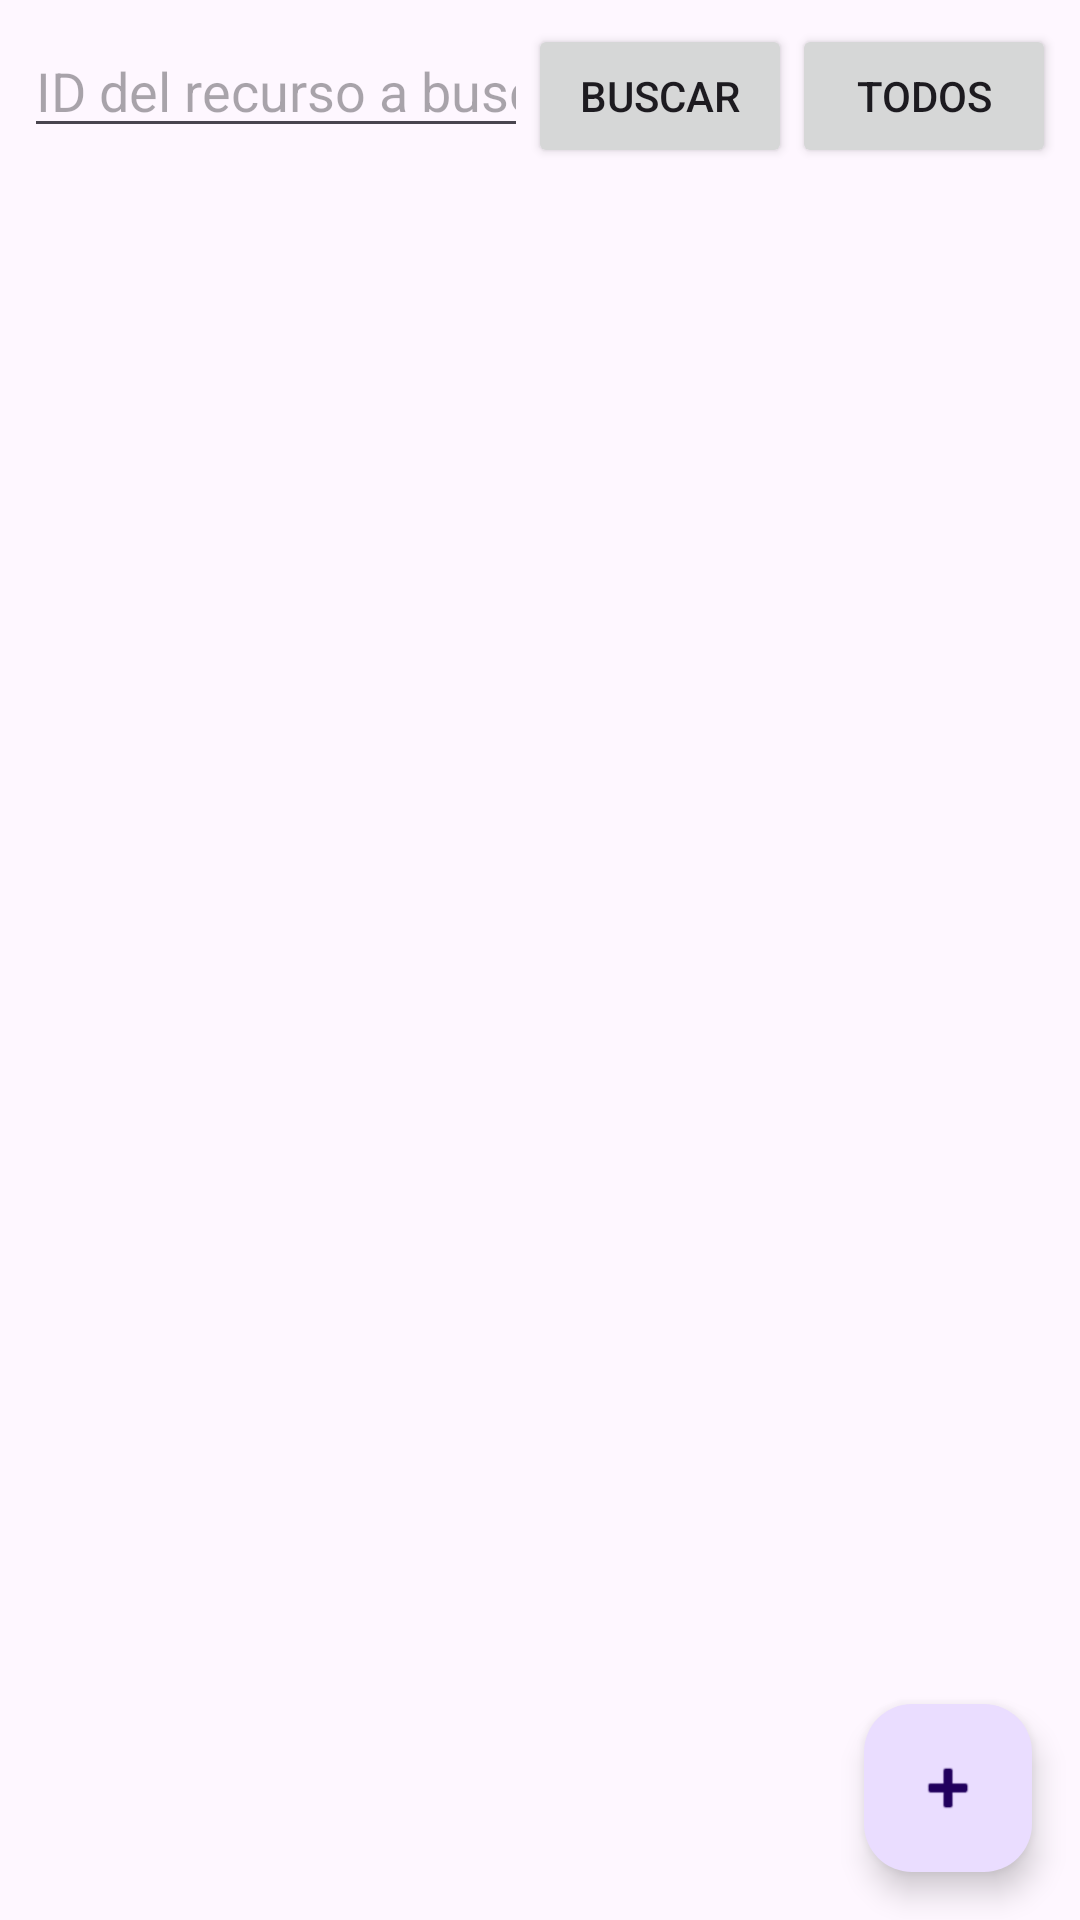

Icons on this 1080w x 1920h Android screen, each with the point to tap as point (x, y):
Agregar Nuevo Recurso: point (948, 1788)
